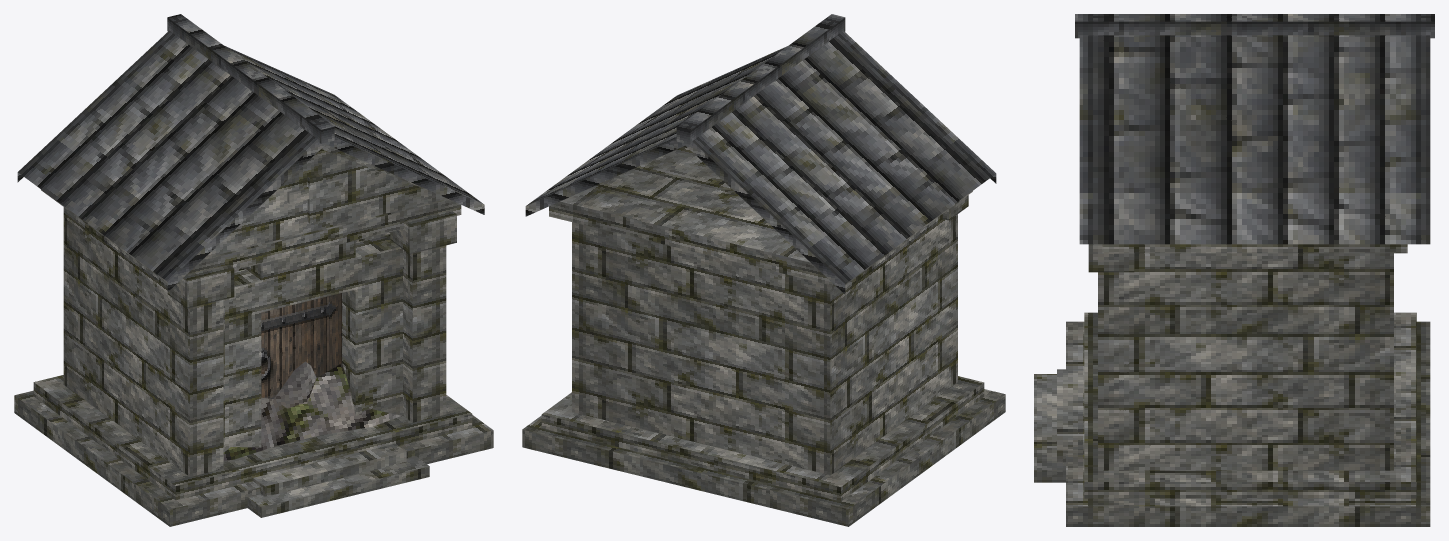
File: cem_v4_kit.glb
3 views of the same model, side by side, from view 1: azimuth 30°, elevation 25°; view 2: azimuth 150°, elevation 25°; view 3: azimuth 270°, elevation 25° (orthographic). The views are drawn at different scales.
Visible parts, largest first — view 1: crypt_stone, crypt_roof, crypt_door, wall_face, rock_a; view 2: crypt_stone, crypt_roof; view 3: crypt_stone, crypt_roof.
Part boxes in pixels (x1,y1,x2,y2): crypt_stone: (14, 144, 493, 526); crypt_roof: (17, 14, 484, 291); crypt_door: (261, 293, 341, 398); wall_face: (223, 267, 401, 460); rock_a: (274, 361, 316, 408); crypt_stone: (522, 145, 1005, 526); crypt_roof: (525, 14, 996, 294); crypt_stone: (1034, 244, 1430, 526); crypt_roof: (1075, 14, 1434, 244).
Size of the model in its own units: 96 by 101 by 88.
9 materials, 9 textured.
